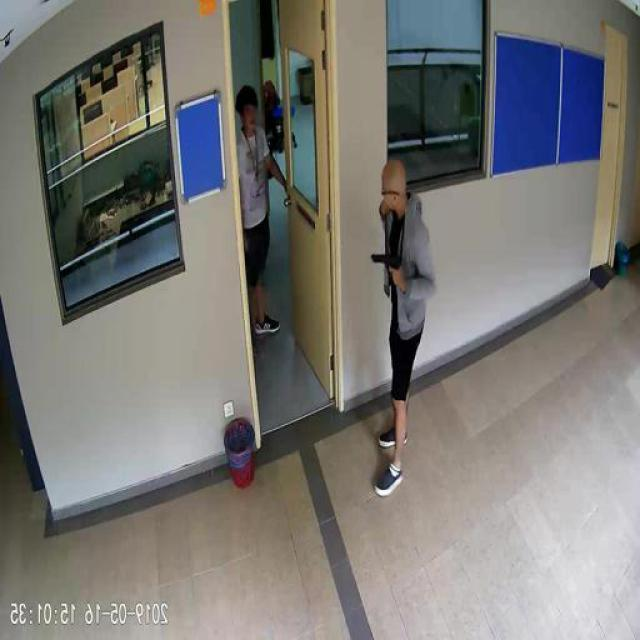weapon: (369, 249, 407, 290)
